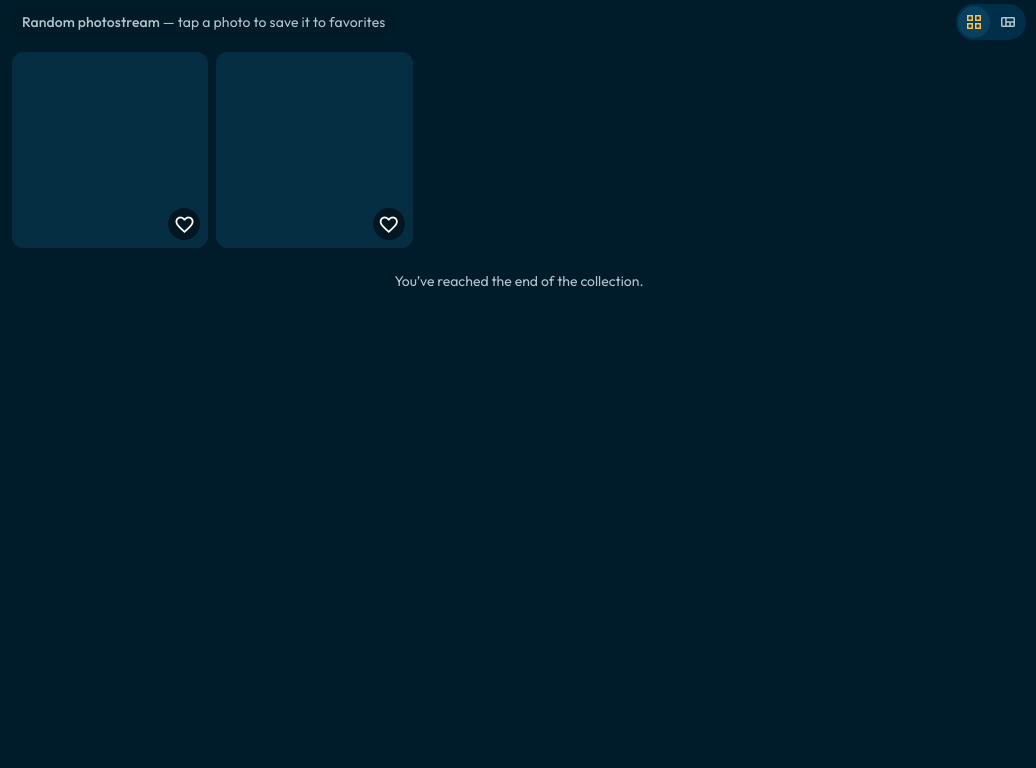
Scenario: PhotoStreamPageComponent › saves the photo it announces when a tile is activated
Click the button named "Add photo by Author 0 to favorites" at (110, 150), box [12,52,208,248]
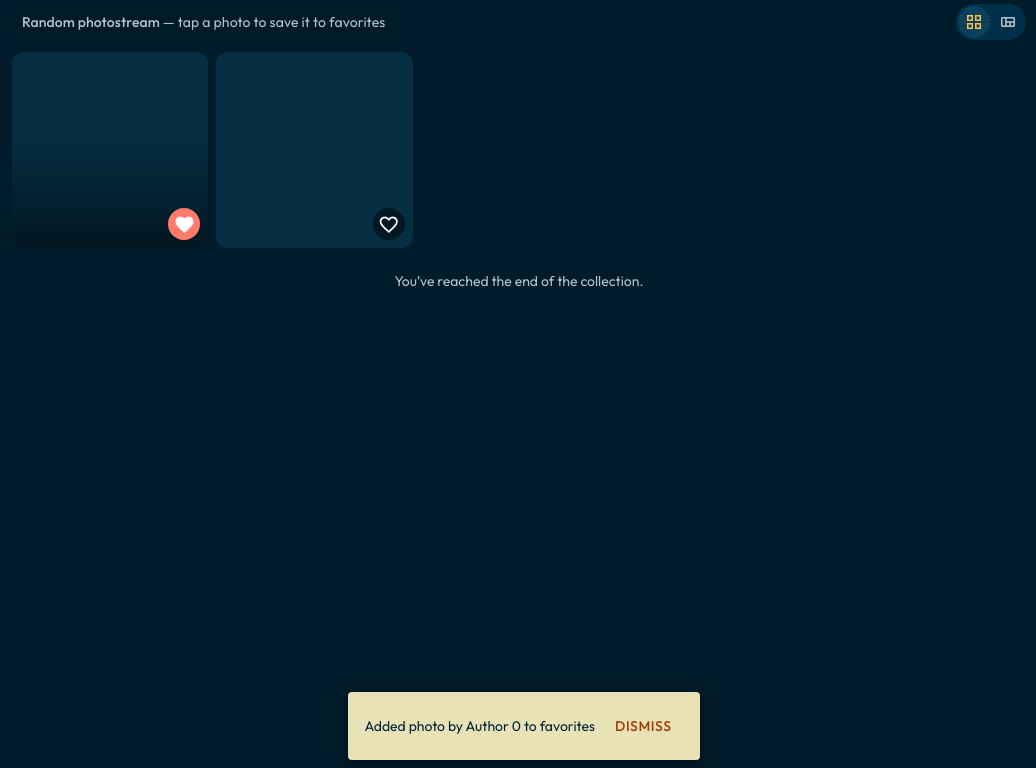
Now the text "Added photo by Author 0 to favorites" is shown, box [364,716,595,736]
